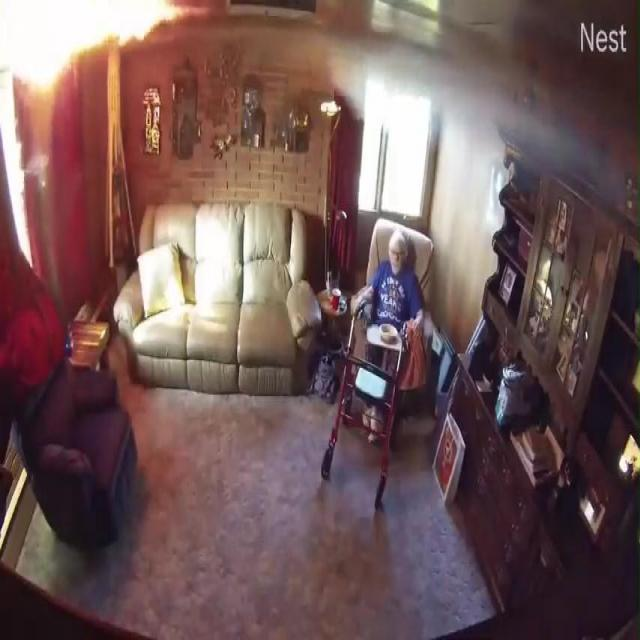fire: (0, 0, 202, 112)
